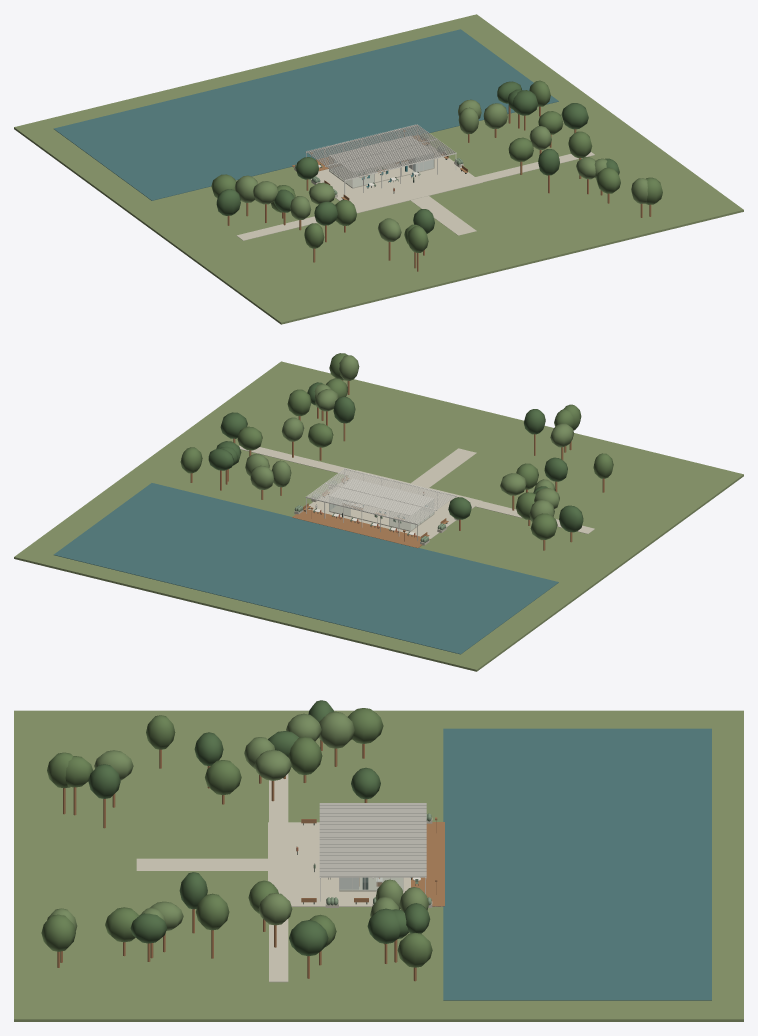
Rendered from Pavilion-Concept.glb.
The picture shows the model from 3 angles, top to bottom: view 1: azimuth 30°, elevation 25°; view 2: azimuth 150°, elevation 25°; view 3: azimuth 270°, elevation 25°; orthographic projection. The views are drawn at different scales.
Visible parts, largest first — view 1: Park lawn, Illustrative lake, not a surveyed site, Level terrace and approach, Tree canopy (×5), Weatherproof interior roof, Public path, Interior floor, Park approach path; view 2: Park lawn, Illustrative lake, not a surveyed site, Level terrace and approach, Tree canopy (×3), Lake viewing deck, Weatherproof interior roof, Public path, Interior floor, Park approach path; view 3: Park lawn, Illustrative lake, not a surveyed site, Tree canopy (×23), Level terrace and approach, Public path, Park approach path, Lake viewing deck, Transparent glazed wall.
Part boxes in pixels (x1,y1,x2,y2): Park lawn: (14,14,743,324); Illustrative lake, not a surveyed site: (54,29,558,200); Level terrace and approach: (293,144,482,213); Tree canopy (×5): (216,90,592,215); Weatherproof interior roof: (330,136,433,172); Public path: (236,152,594,240); Interior floor: (329,161,434,188); Park approach path: (410,196,476,235); Park lawn: (14,361,743,671); Illustrative lake, not a surveyed site: (54,483,558,654); Level terrace and approach: (308,470,482,538); Tree canopy (×3): (220,412,583,539); Lake viewing deck: (292,509,430,548); Weatherproof interior roof: (330,479,433,515); Public path: (239,445,594,533); Interior floor: (329,503,434,531); Park approach path: (411,448,476,487); Park lawn: (14,710,743,1021); Illustrative lake, not a surveyed site: (443,728,711,1000); Tree canopy (×23): (41,708,432,967); Level terrace and approach: (268,822,442,906); Public path: (269,773,288,982); Park approach path: (136,858,267,870); Lake viewing deck: (411,822,444,906); Transparent glazed wall: (340,878,402,890).
Bounding box in the file's own units: 125 × 12.49 × 125.
